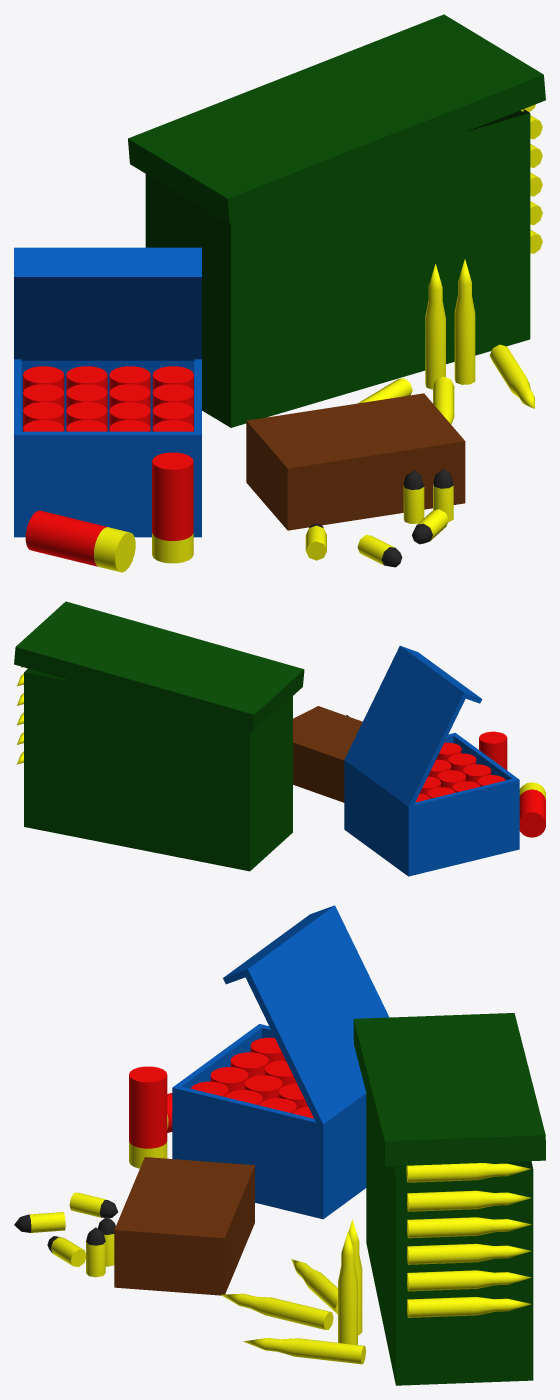
Rendered from AmmoPickup.FBX.
The picture shows the model from 3 angles, top to bottom: view 1: azimuth 30°, elevation 25°; view 2: azimuth 150°, elevation 25°; view 3: azimuth 270°, elevation 25°; orthographic projection. The views are drawn at different scales.
Visible parts, largest first — view 1: Box01; view 2: Box01; view 3: Box01.
Boxes of the visible parts, box(x1,y1,x2,y2) form: Box01: box(14, 14, 545, 572); Box01: box(14, 601, 545, 876); Box01: box(14, 905, 545, 1385).
Size of the model in its own units: 3.82 by 1.57 by 3.05.
